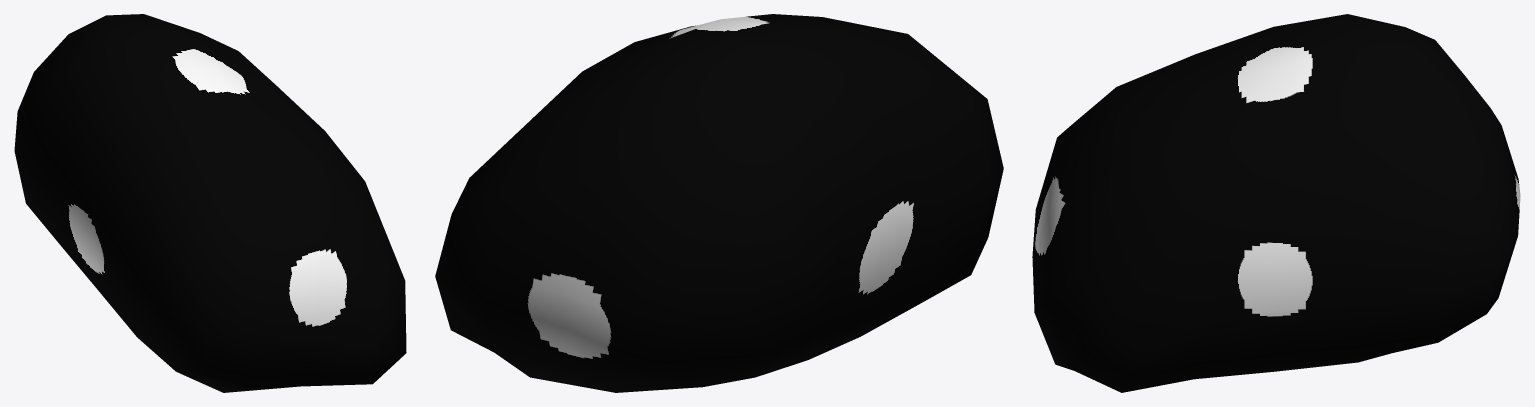
The model's file is rock02.fbx.
3 views of the same model, side by side, from view 1: azimuth 30°, elevation 25°; view 2: azimuth 150°, elevation 25°; view 3: azimuth 270°, elevation 25° (orthographic). The views are drawn at different scales.
Parts seen in each view (by area): view 1: ROCK1; view 2: ROCK1; view 3: ROCK1.
Part boxes in pixels (box(x1,y1,x2,y2)): ROCK1: box(14, 14, 406, 392); ROCK1: box(435, 14, 1003, 392); ROCK1: box(1032, 14, 1520, 392).
Bounding box in the file's own units: 1.92 × 2.04 × 2.94.
